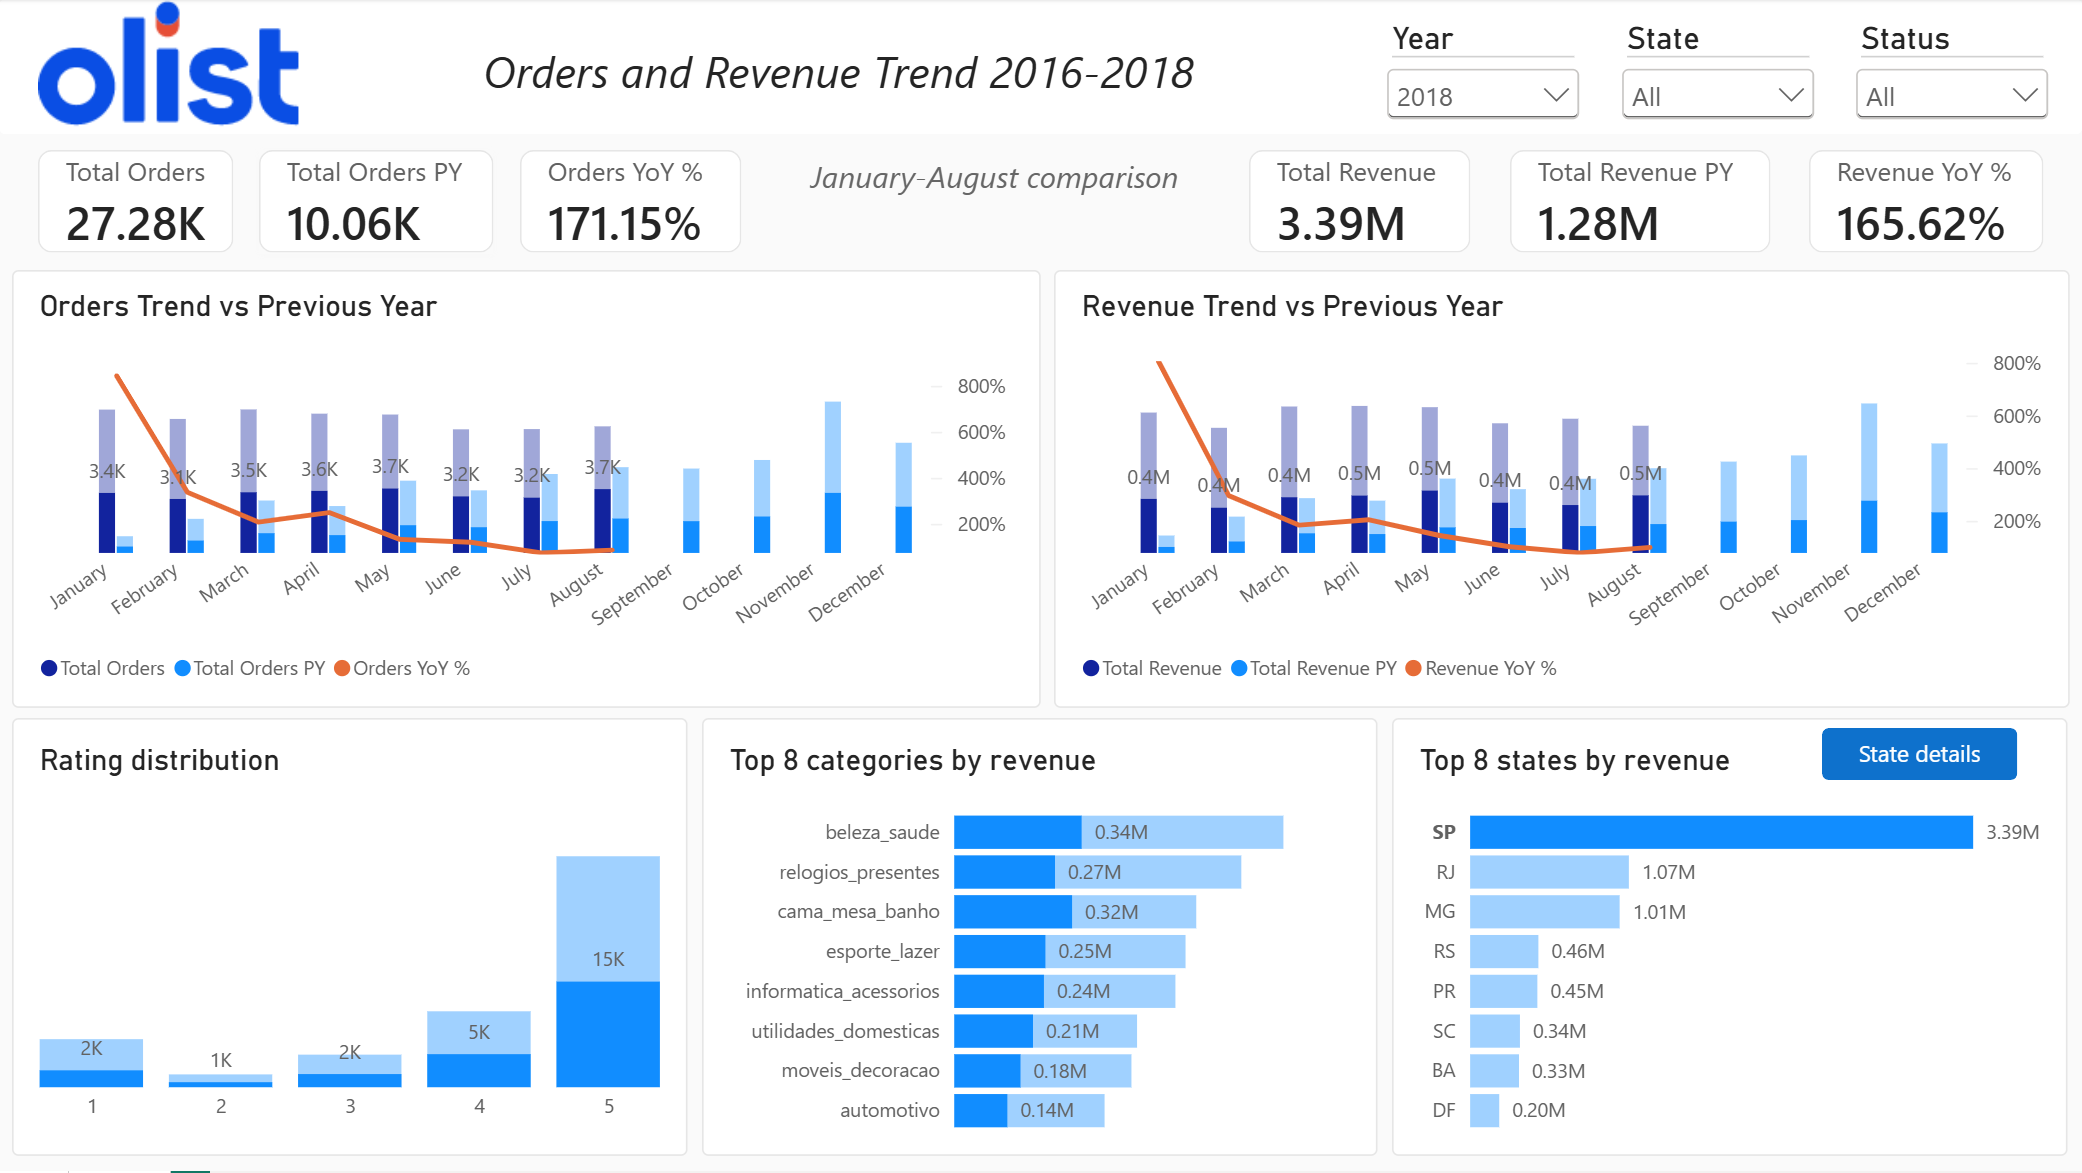

This screenshot's page, from the dashboard's own definition file:
{"tool":"powerbi","page":{"name":"Overview","canvas":[1280,720],"ordinal":0},"visuals":[{"type":"shape","box":[0,0,1280,83.2],"z":0},{"type":"lineClusteredColumnComboChart","title":"Orders Trend vs Previous Year","fields":{"Category":["calendar.Month Name"],"Y":["misure.Orders Count","misure.Orders Count PY"],"Y2":["misure.Orders Count YoY %"]},"box":[8,166.4,632,268.8],"z":1000},{"type":"slicer","fields":{"Values":["calendar.Year"]},"box":[848,12.8,128,64],"z":2000},{"type":"slicer","fields":{"Values":["fact_orders.order_status"]},"box":[1136,12.8,128,64],"z":3000},{"type":"cardVisual","fields":{"Data":["misure.Orders Count Jan-Aug"]},"box":[24,92.8,120,64],"z":4000},{"type":"cardVisual","fields":{"Data":["misure.Total Revenue Jan-Aug"]},"box":[768,92.8,136,64],"z":5000},{"type":"image","box":[24,0,160,80],"z":6000},{"type":"cardVisual","fields":{"Data":["misure.Orders Count PY Jan-Aug"]},"box":[160,92.8,144,64],"z":7000},{"type":"cardVisual","fields":{"Data":["misure.Total revenue PY Jan-Aug"]},"box":[928,92.8,160,64],"z":8000},{"type":"textbox","box":[8,600,152,120],"z":9000},{"type":"textbox","box":[292,25.6,448,38.4],"z":10000},{"type":"lineClusteredColumnComboChart","title":"Revenue Trend vs Previous Year","fields":{"Category":["calendar.Month Name"],"Y":["misure.Total Revenue","misure.Total Revenue PY"],"Y2":["misure.Total Revenue YoY %"]},"box":[648,166.4,624,268.8],"z":11000},{"type":"barChart","title":"Top 8 states by revenue","fields":{"Category":["dim_customers.customer_state"],"Y":["misure.Total Revenue"]},"box":[856,441.6,415,268.8],"z":12000},{"type":"barChart","title":"Top 8 categories by revenue","fields":{"Category":["dim_products.product_category_name"],"Y":["misure.Total Revenue"]},"box":[432,441.6,415,268.8],"z":13000},{"type":"clusteredColumnChart","title":"Rating distribution","fields":{"Category":["fact_order_reviews.review_score"],"Y":["misure.Reviews Count"]},"box":[8,441.6,415,268.8],"z":14000},{"type":"cardVisual","fields":{"Data":["misure.Orders YoY % Jan-Aug"]},"box":[320,92.8,136,64],"z":15000},{"type":"cardVisual","fields":{"Data":["misure.Revenue YoY % Jan-Aug"]},"box":[1112,92.8,144,64],"z":16000},{"type":"slicer","fields":{"Values":["dim_customers.customer_state"]},"box":[992,12.8,128,64],"z":17000},{"type":"textbox","box":[480,96,264,56],"z":18000},{"type":"actionButton","box":[1120,448,120,32],"z":19000}]}

Visuals, with their boxes in screenshot pixels (x1, y1, x2, y2), scaled from the page's 1280x720 canvas onto the 2082x1173 screenshot:
shape: (0, 0, 2081, 136)
"Orders Trend vs Previous Year" lineClusteredColumnComboChart: (13, 271, 1041, 709)
slicer - calendar.Year: (1379, 21, 1588, 125)
slicer - fact_orders.order_status: (1848, 21, 2056, 125)
cardVisual - misure.Orders Count Jan-Aug: (39, 151, 234, 255)
cardVisual - misure.Total Revenue Jan-Aug: (1249, 151, 1470, 255)
image: (39, 0, 299, 130)
cardVisual - misure.Orders Count PY Jan-Aug: (260, 151, 494, 255)
cardVisual - misure.Total revenue PY Jan-Aug: (1509, 151, 1770, 255)
textbox: (13, 978, 260, 1172)
textbox: (475, 42, 1204, 104)
"Revenue Trend vs Previous Year" lineClusteredColumnComboChart: (1054, 271, 2069, 709)
"Top 8 states by revenue" barChart: (1392, 719, 2067, 1157)
"Top 8 categories by revenue" barChart: (703, 719, 1378, 1157)
"Rating distribution" clusteredColumnChart: (13, 719, 688, 1157)
cardVisual - misure.Orders YoY % Jan-Aug: (520, 151, 742, 255)
cardVisual - misure.Revenue YoY % Jan-Aug: (1809, 151, 2043, 255)
slicer - dim_customers.customer_state: (1614, 21, 1822, 125)
textbox: (781, 156, 1210, 248)
actionButton: (1822, 730, 2017, 782)
